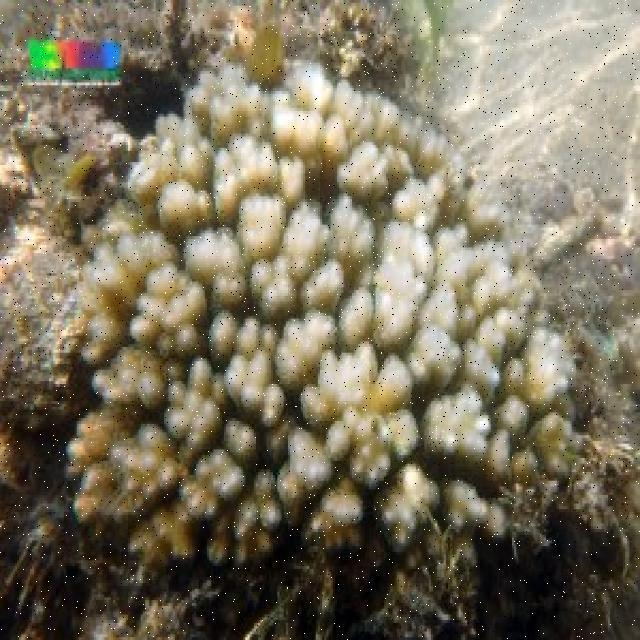Bleached: (65, 74, 588, 484)
Healthy: (276, 530, 640, 638)
